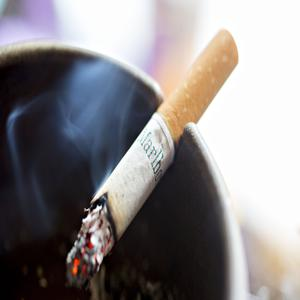cigarette: (64, 27, 239, 289)
